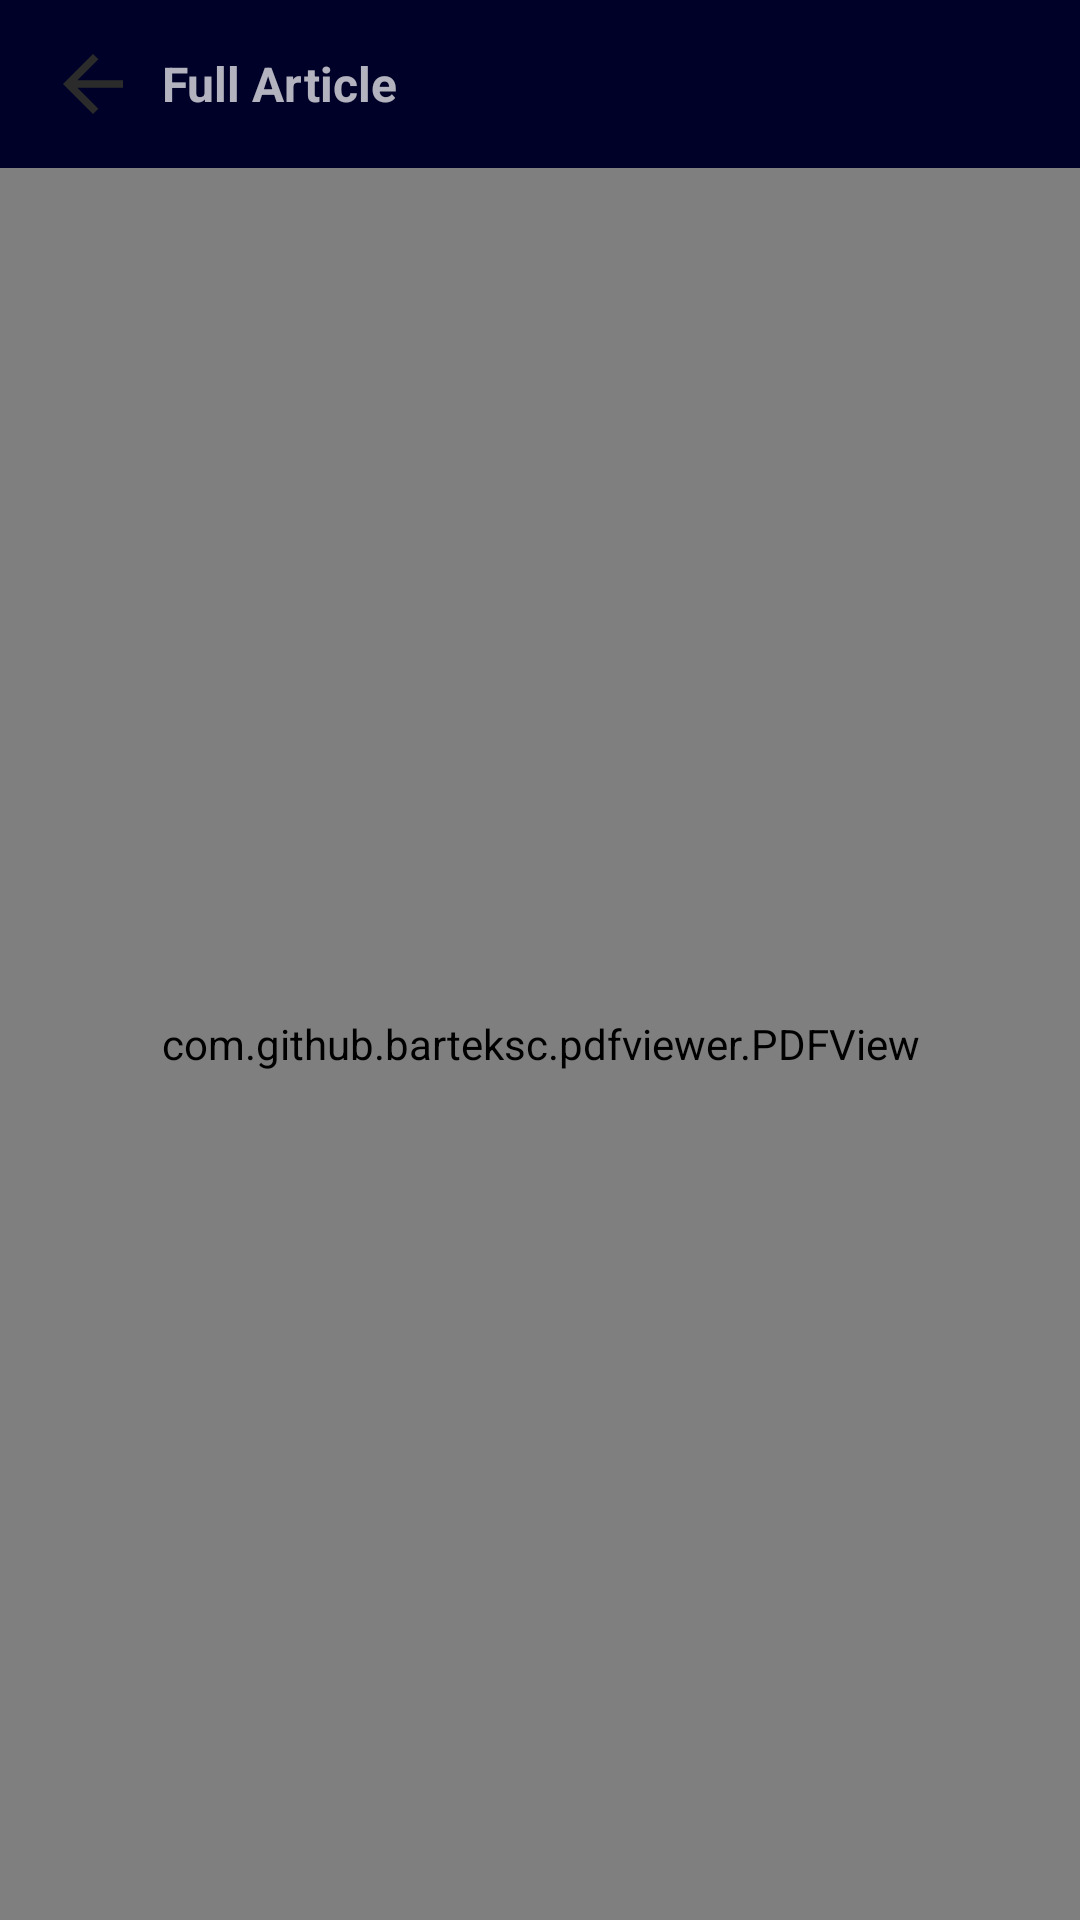

Where to tap for icons on this 1080 × 1920 app screen, as point (x, y):
arrow back: point (93, 84)
